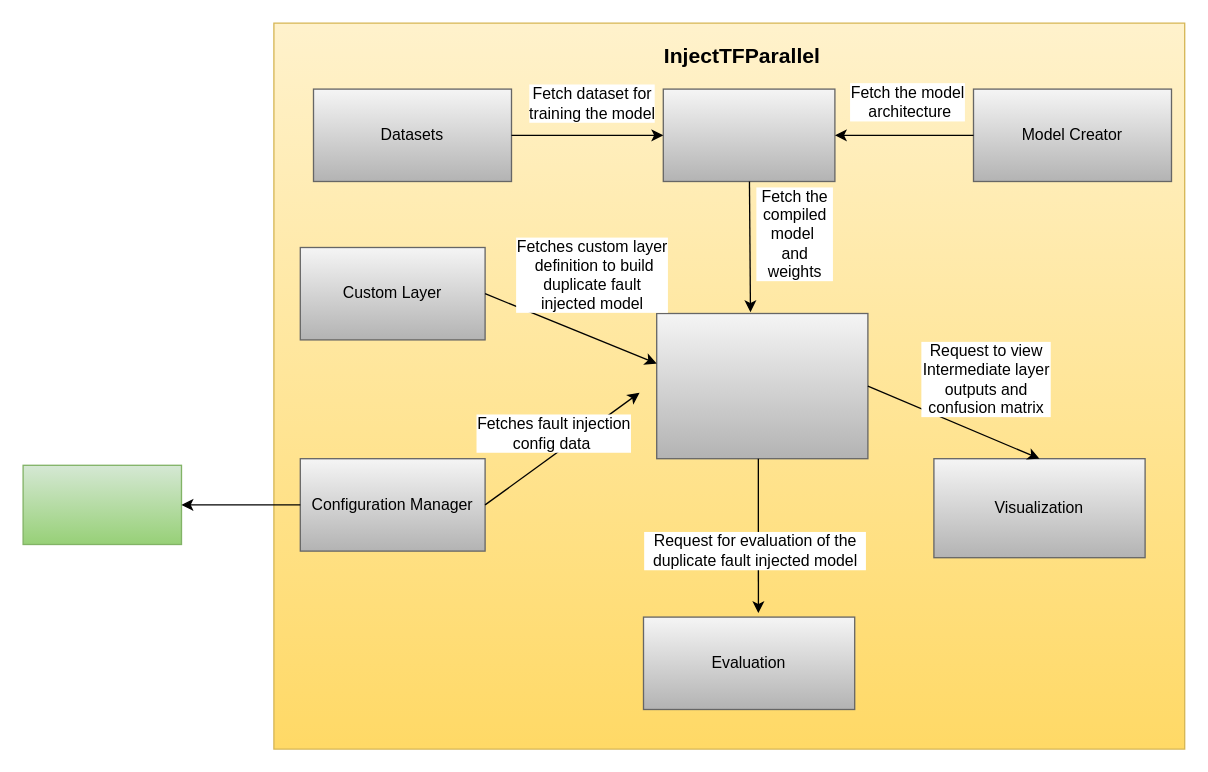
Some shapes in this 1208 by 772 pixel diagram are drawn without their labels. Here are the shapes that lost their labels. From the top down, the centre of each, then its label:
At pixel 748 135: "Model Trainer".
At pixel 761 385: "Fault Injector".
At pixel 102 504: "Fault injection config file (.YAML)".
